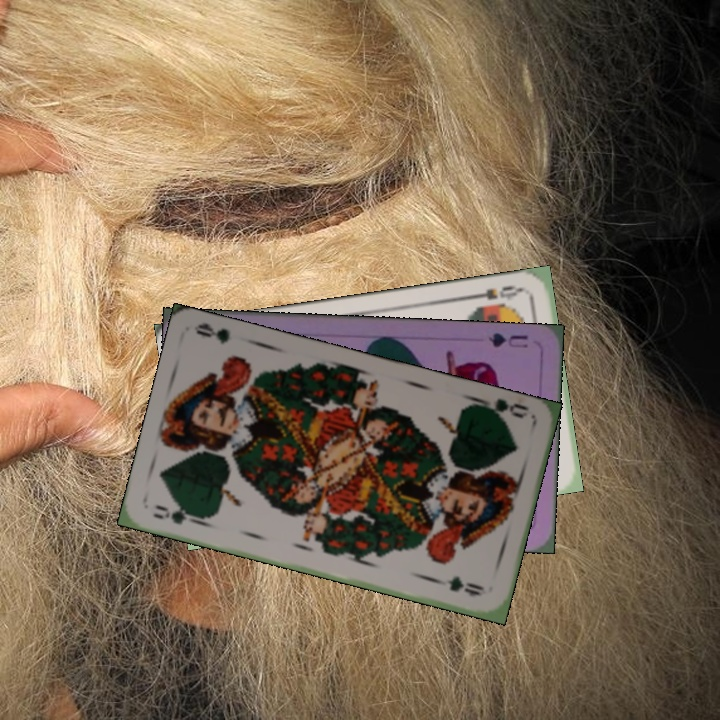GO: (473, 394, 531, 425), (149, 500, 205, 528)
GU: (484, 329, 531, 350)
SO: (468, 281, 527, 303)
